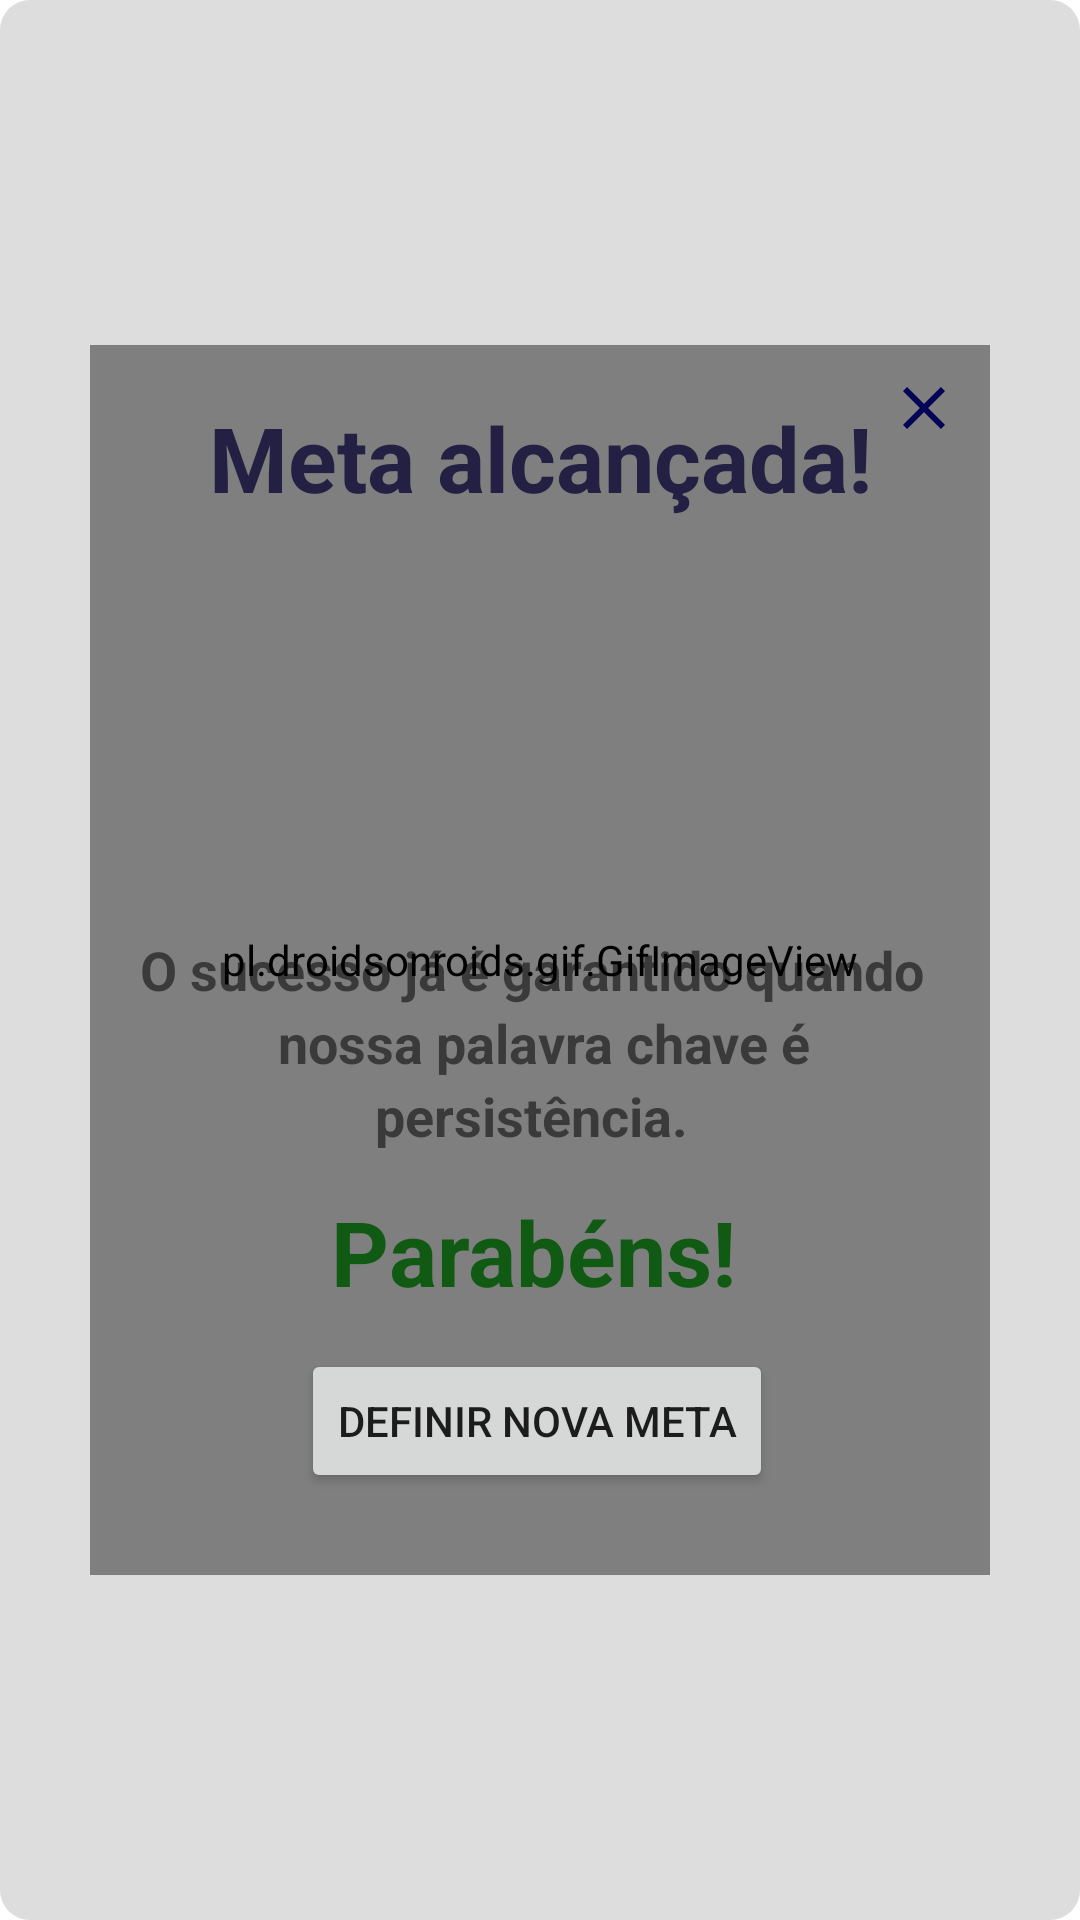

Icons on this 1080px×1920px Android screen, each with the point to tap as (x=x, y=y):
close: (x=924, y=408)
